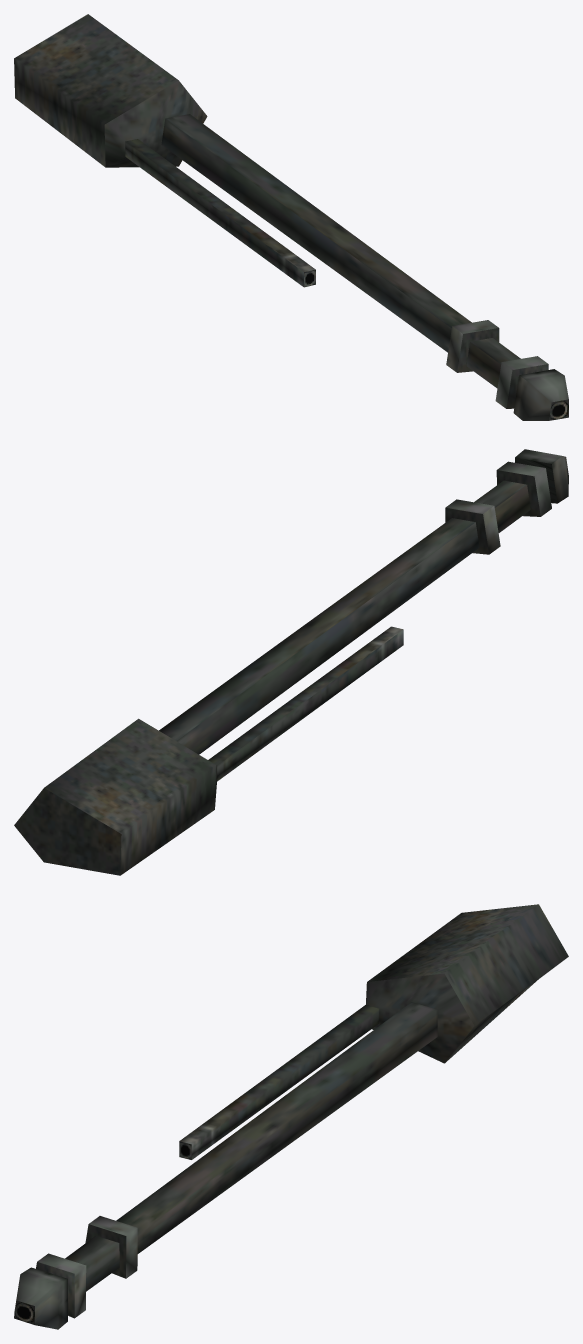
Rendered from bwing_weapon2l_s01_l1.fbx.
3 renders of one model, top to bottom at view 1: azimuth 30°, elevation 25°; view 2: azimuth 150°, elevation 25°; view 3: azimuth 330°, elevation 25°, orthographic. The views are drawn at different scales.
Visible parts, largest first — view 1: mesh_node; view 2: mesh_node; view 3: mesh_node.
Boxes of the visible parts, x1,y1,x2,y2 form: mesh_node: (14,14,568,420); mesh_node: (14,449,568,875); mesh_node: (14,904,568,1329).
Size of the model in its own units: 0.3409 by 0.2731 by 2.76.
